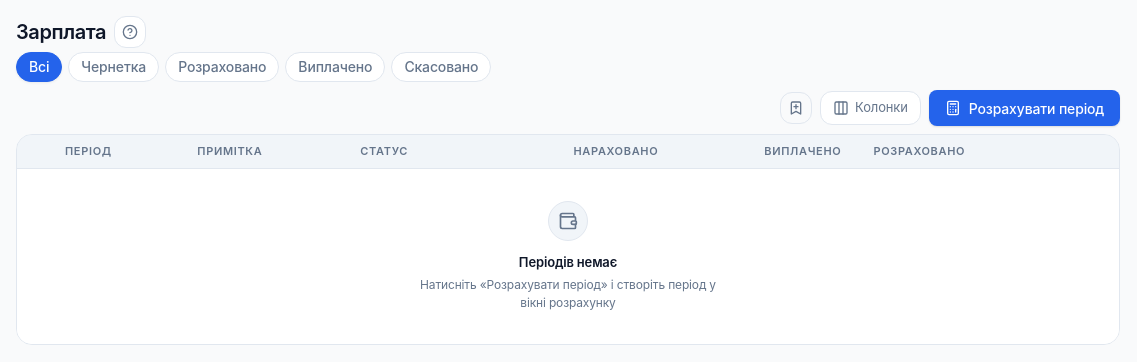
Test: Payroll — List Page pattern (пагінація + фільтри + колонки) › порожній список: без фільтра — підказка створення, під фільтром — «немає за фільтром»
The image size is (1137, 362).
expect the text "Натисніть «Розрахувати період» і створіть період у вікні розрахунку" is shown: met, box [408,276,728,312]
Click the button "Скасовано". click: (441, 67)
box: [391,52,491,82]
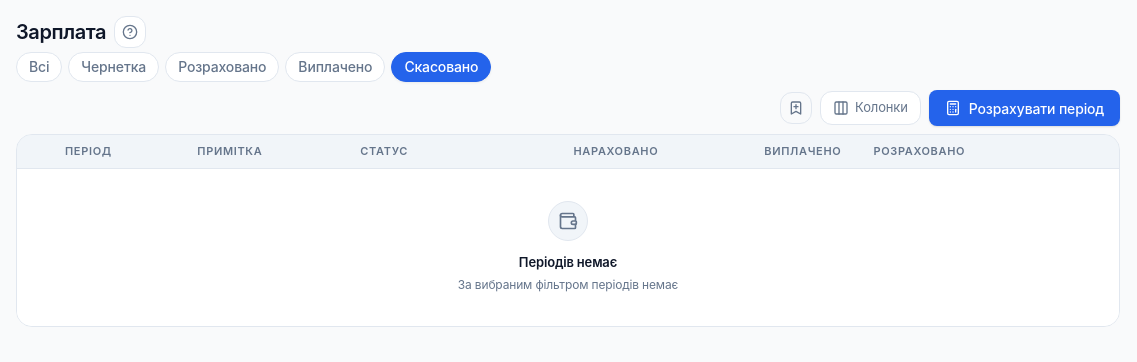
expect the text "За вибраним фільтром періодів немає" is shown: met, box [458,276,678,294]
